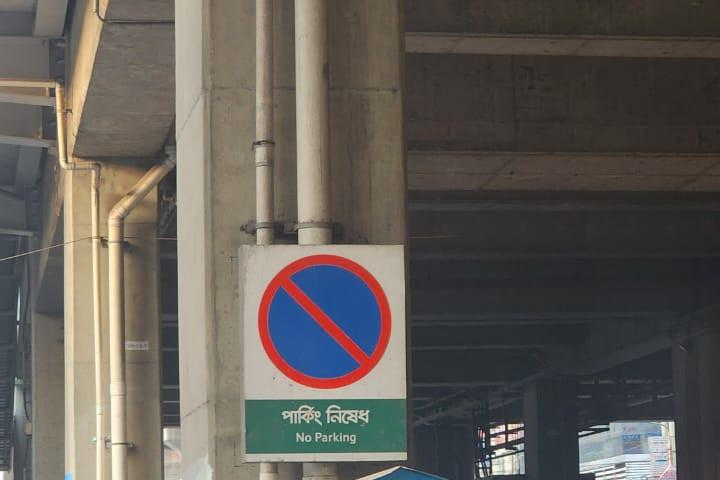No Parking: (241, 244, 408, 462)
